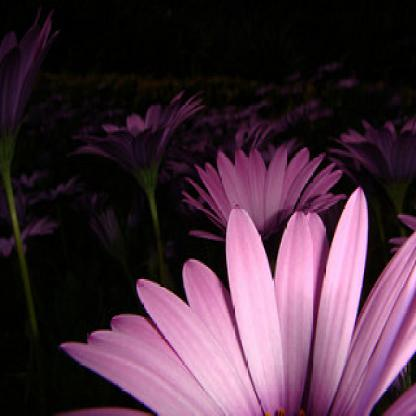ASTER: (54, 143, 416, 415)
